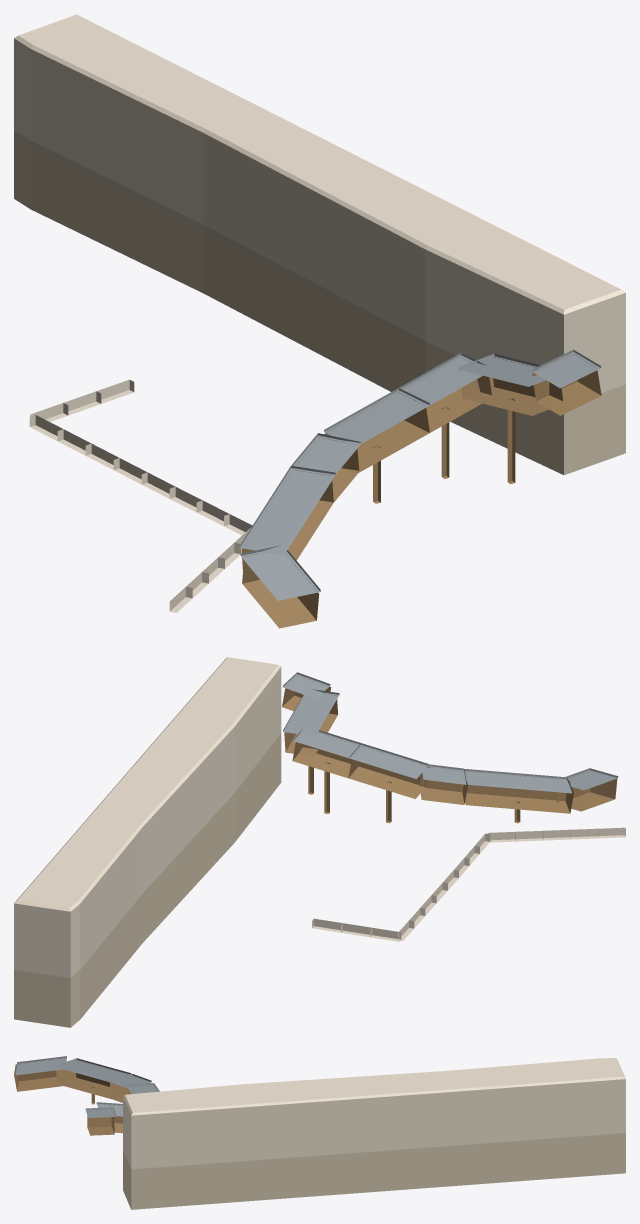
File: jerusalem-dome-of-the-rock-plaza.glb
3 renders of one model, top to bottom at view 1: azimuth 30°, elevation 25°; view 2: azimuth 150°, elevation 25°; view 3: azimuth 270°, elevation 25°, orthographic. The views are drawn at different scales.
Parts seen in each view (by area): view 1: Dome of the Rock and Western Wall (plaza level); view 2: Dome of the Rock and Western Wall (plaza level); view 3: Dome of the Rock and Western Wall (plaza level).
Boxes of the visible parts, x1,y1,x2,y2 form: Dome of the Rock and Western Wall (plaza level): [14, 14, 625, 628]; Dome of the Rock and Western Wall (plaza level): [14, 657, 625, 1027]; Dome of the Rock and Western Wall (plaza level): [14, 1056, 625, 1209].
Bounding box in the file's own units: 61.33 × 19 × 110.
